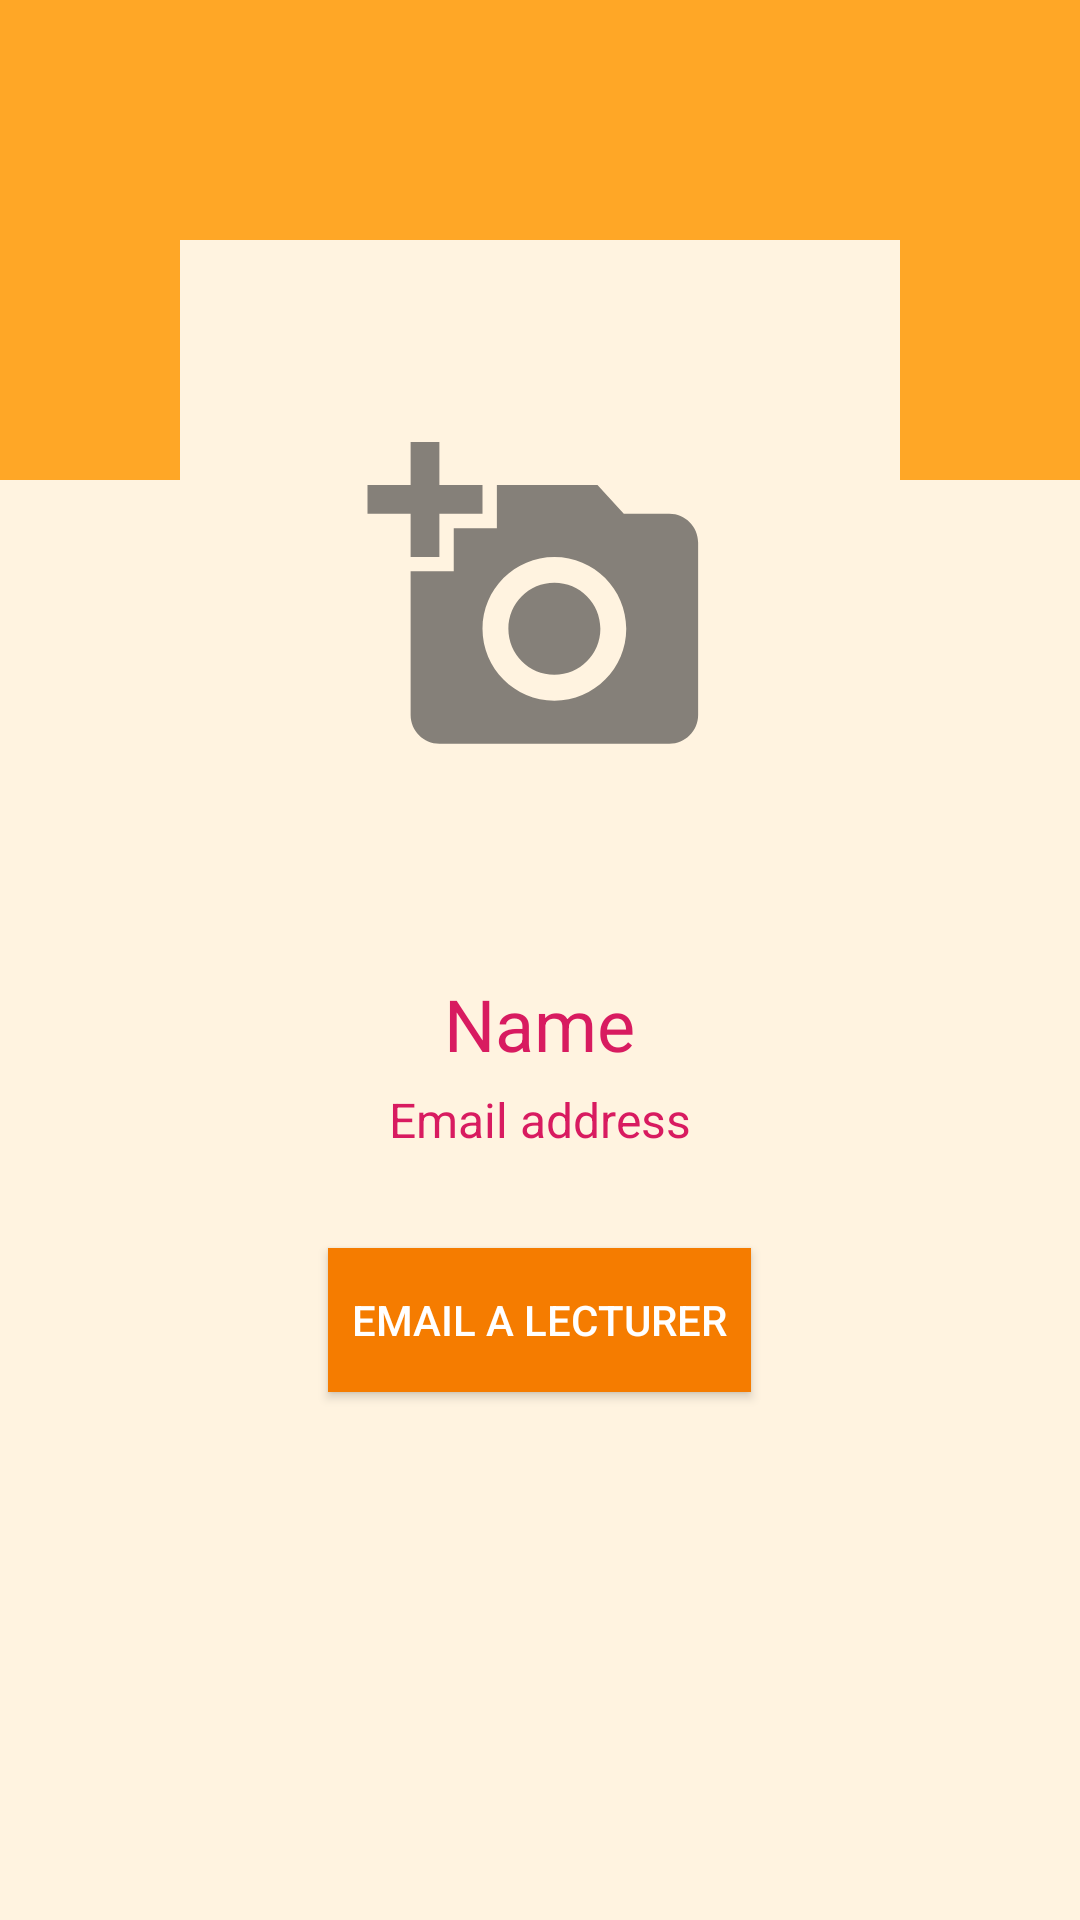

Screen size 1080x1920. Icon name, then its box in pixels as (x1, y1, x2, y2):
add: (367, 442, 698, 744)
